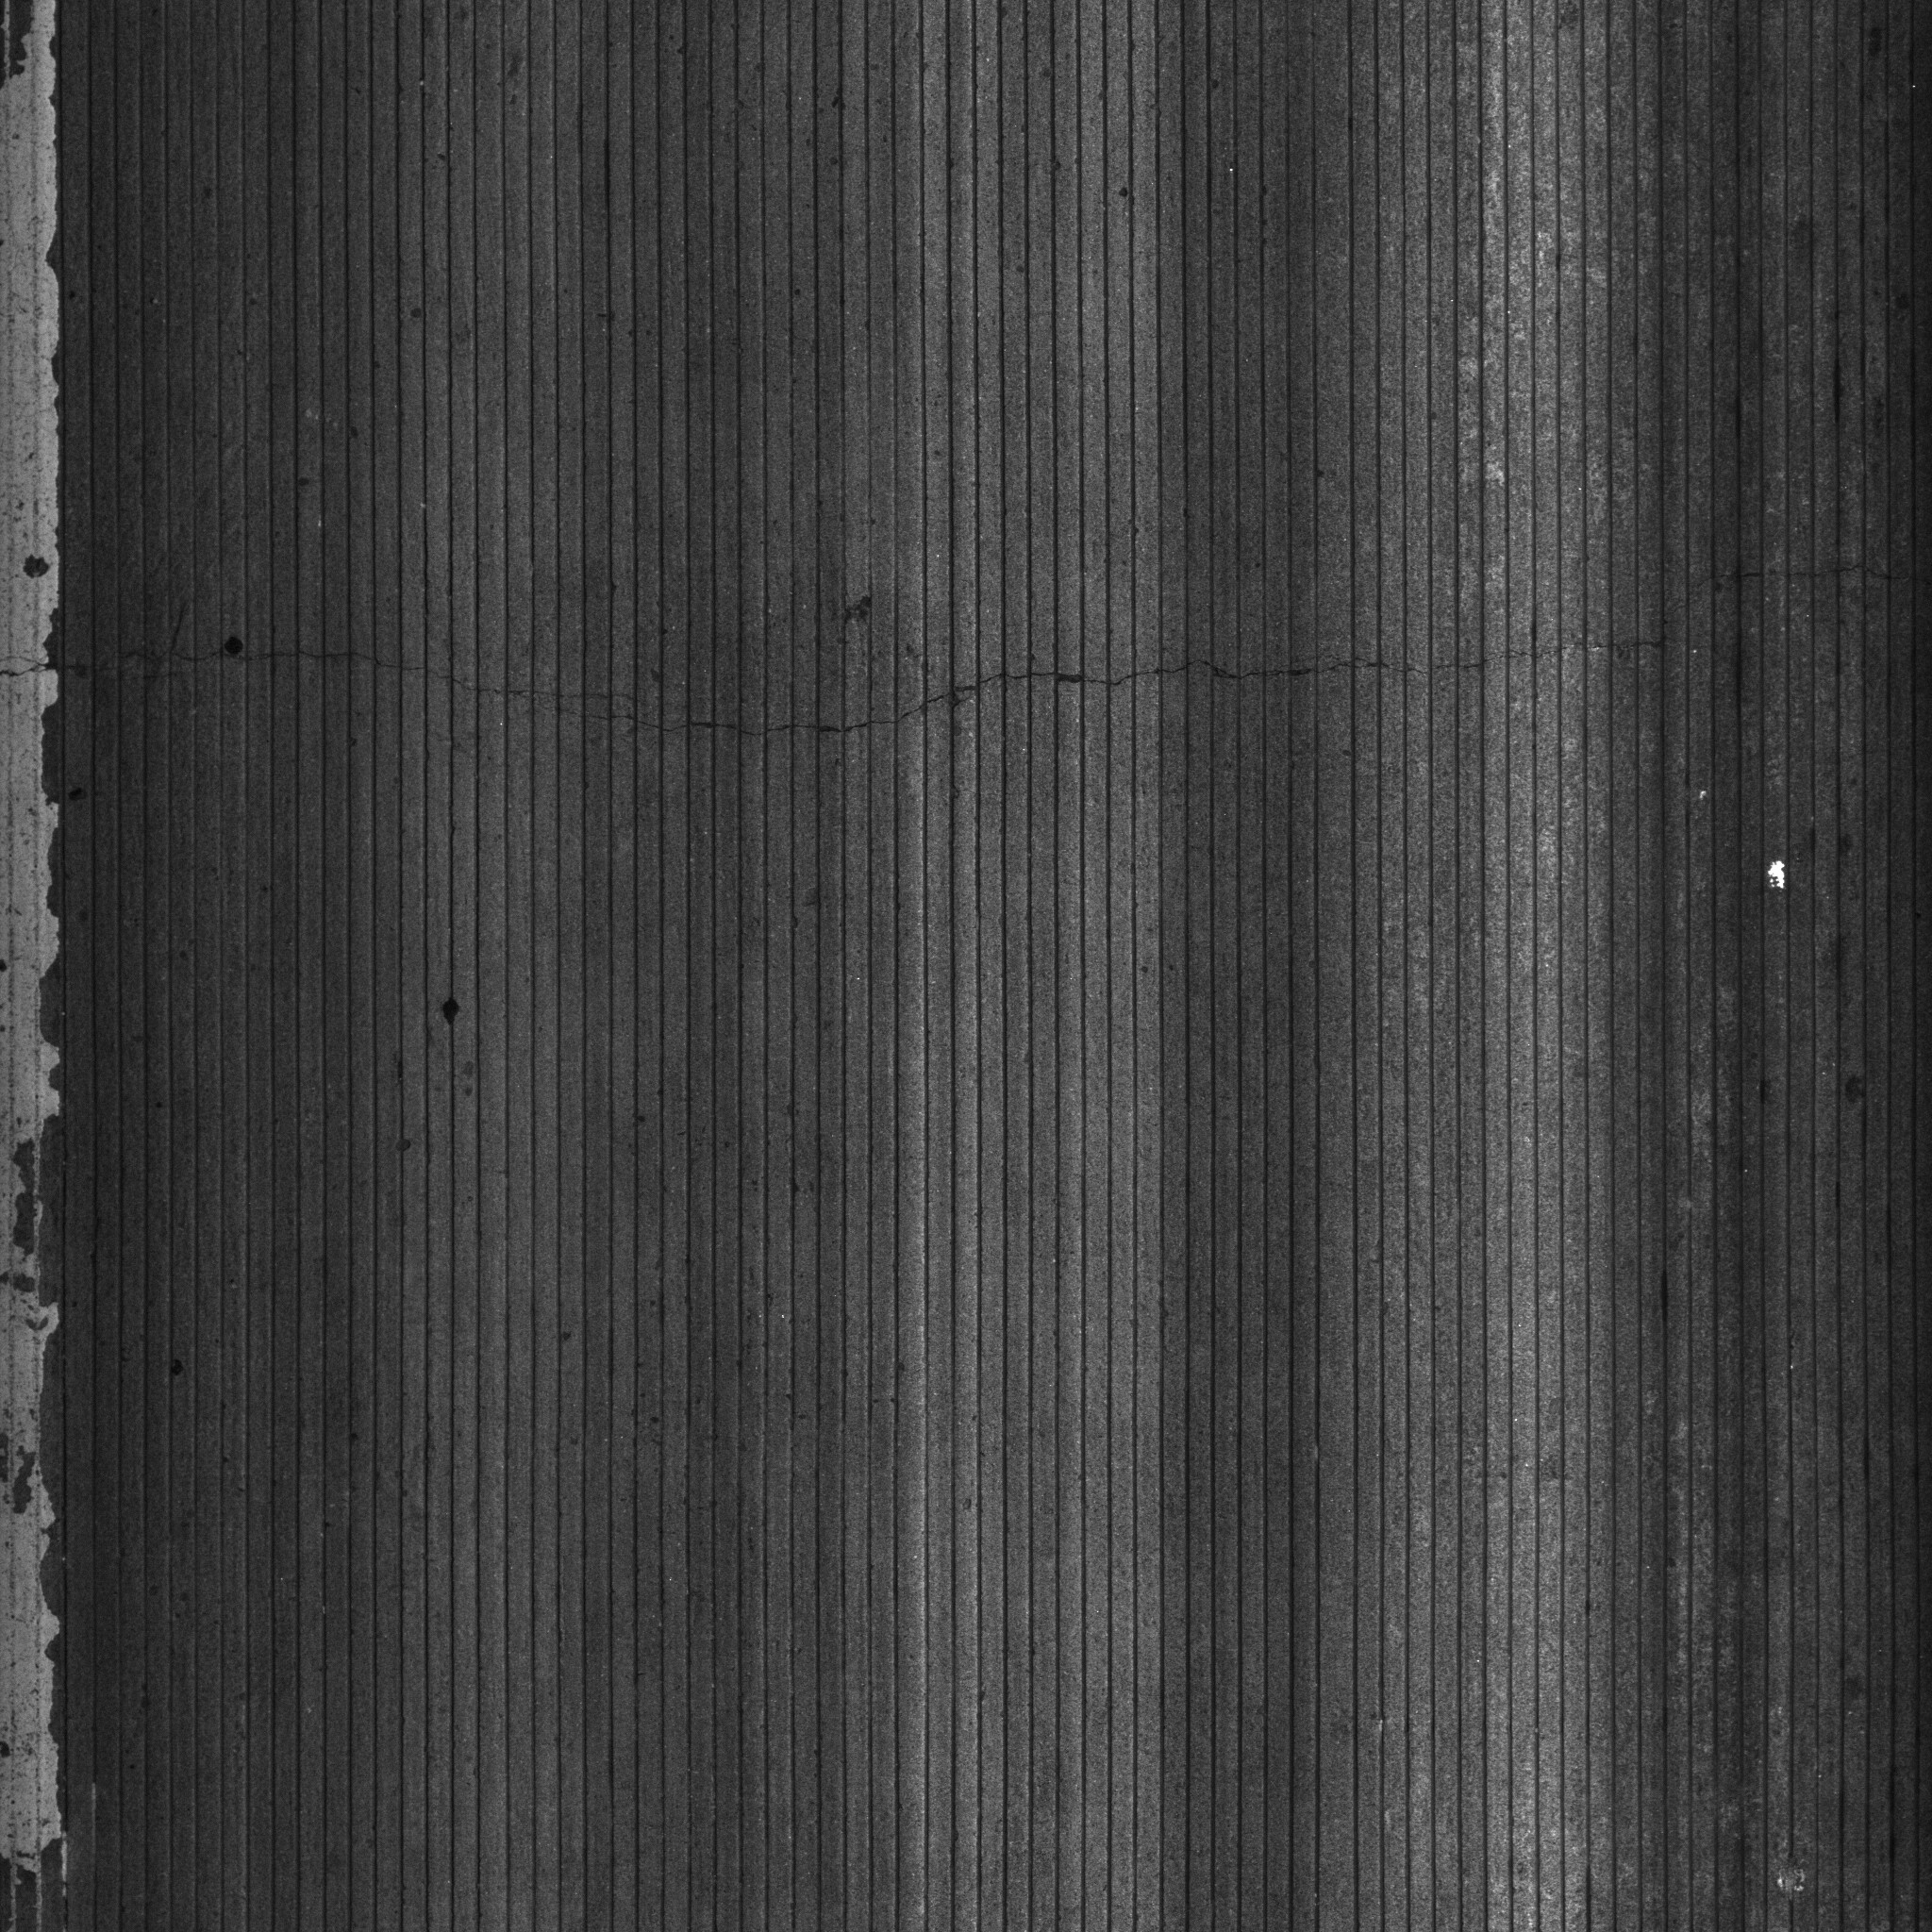transverse: (2, 607, 1723, 757)
